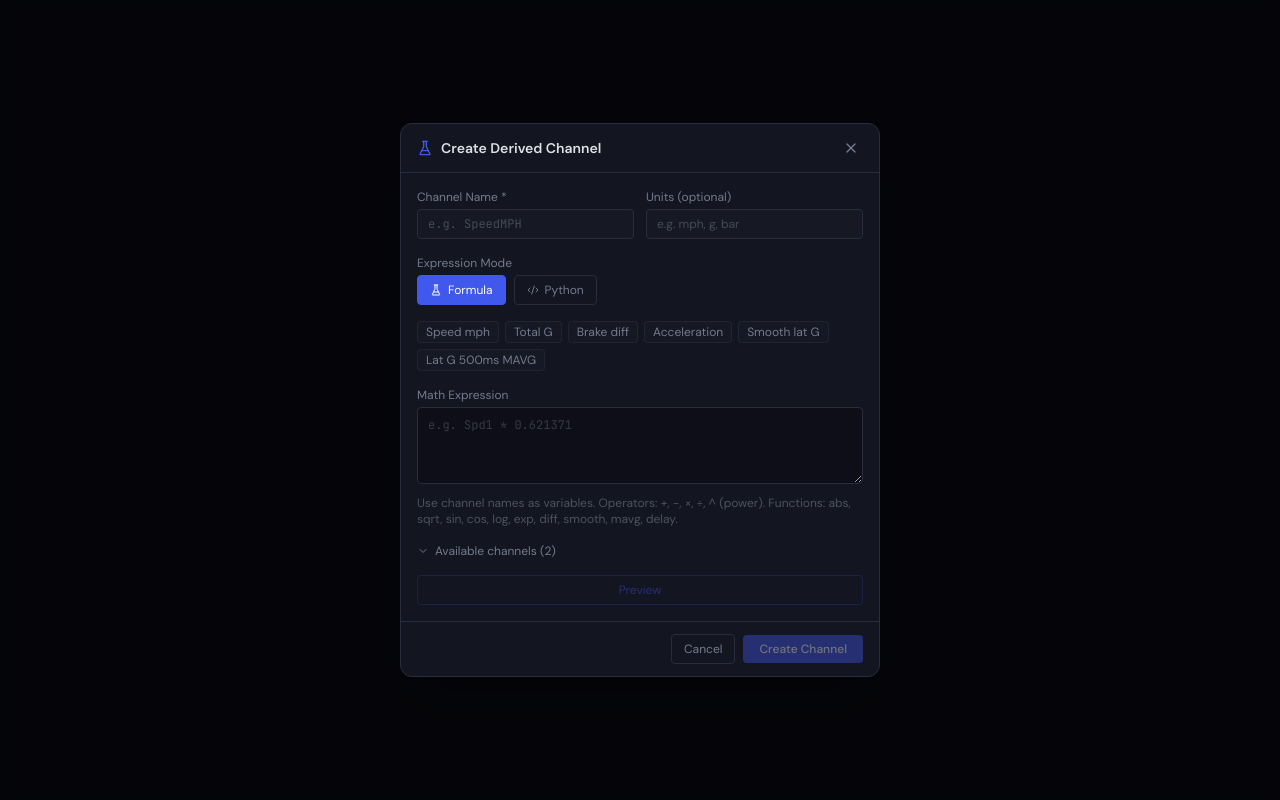
DerivedChannelDialog › shows preview errors
The image size is (1280, 800).
Step 1. Type "X" into the field with test id "input-derived-name" → (526, 224), box x1=417 y1=209 x2=634 y2=239
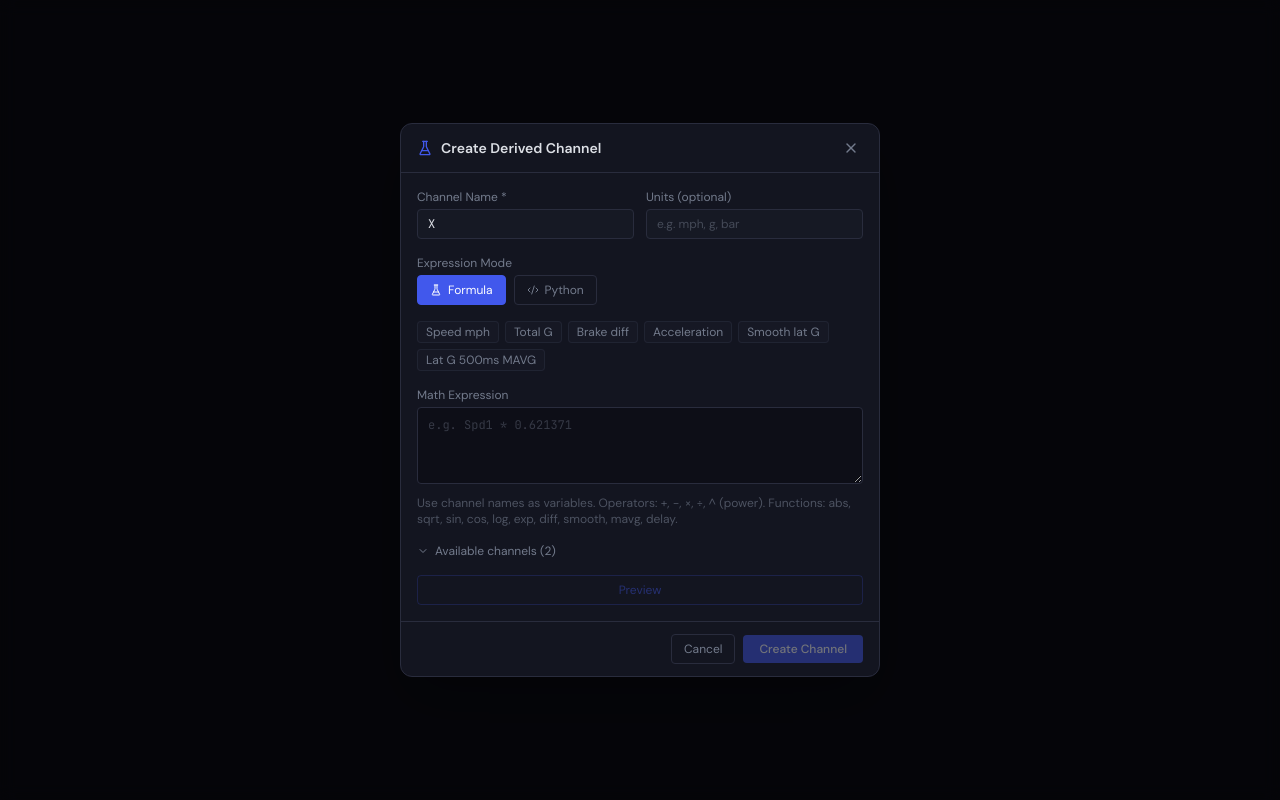
Step 2. Type "Nope" into the text box with test id "textarea-expression" → (640, 446), box x1=417 y1=407 x2=863 y2=484
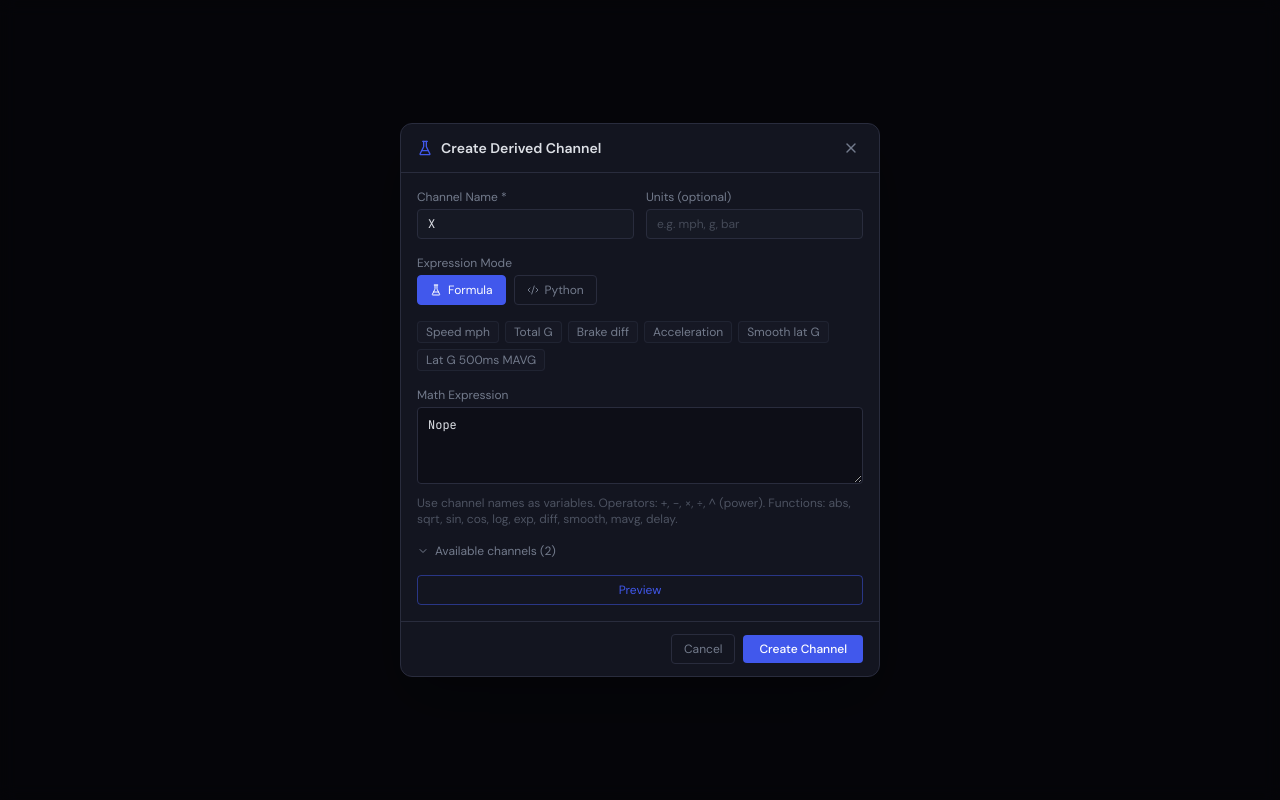
Step 3. Click the button with test id "btn-preview" → click(640, 590), box x1=417 y1=575 x2=863 y2=605
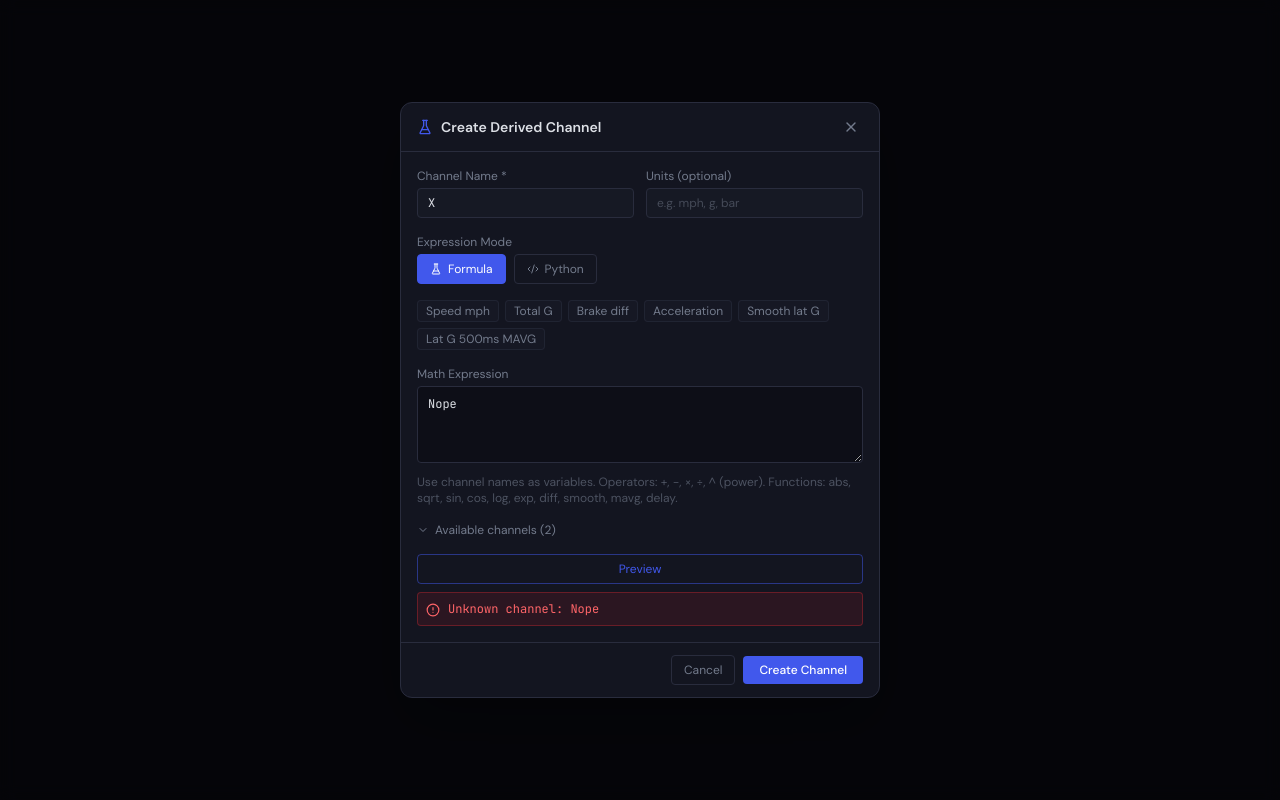
Check: the text "Unknown channel: Nope" is shown, box x1=448 y1=601 x2=599 y2=617
